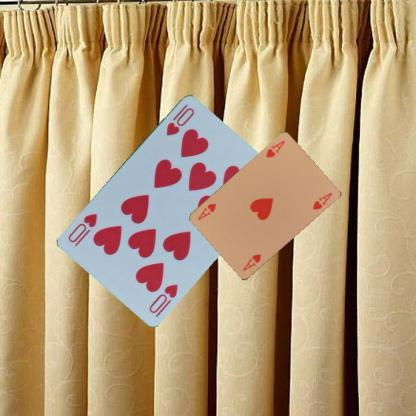10h: (163, 100, 196, 137), (146, 281, 179, 314)
Ah: (263, 138, 286, 160), (240, 252, 263, 272)
